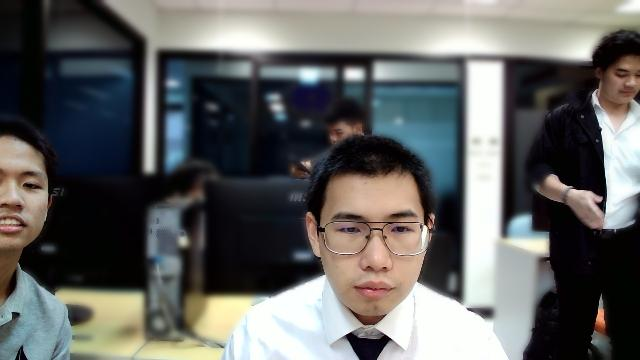fokus: (306, 141, 434, 318)
